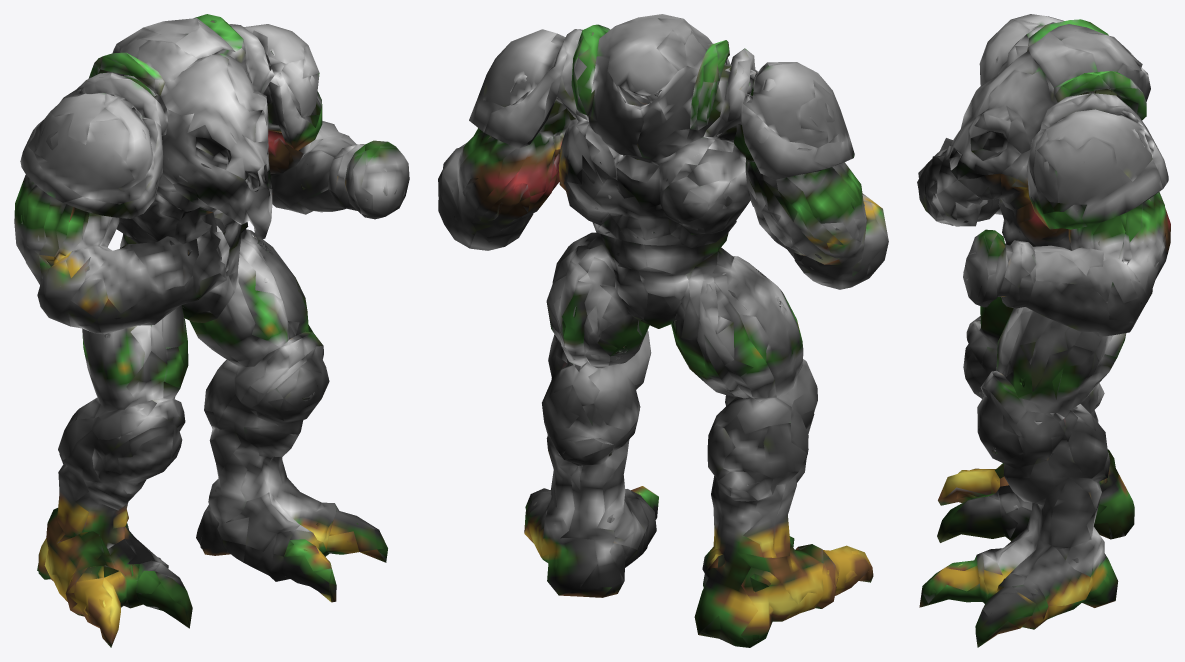
Rendered from BOSSE1.obj.
3 renders of one model, left to right at view 1: azimuth 30°, elevation 25°; view 2: azimuth 150°, elevation 25°; view 3: azimuth 270°, elevation 25°, orthographic. The views are drawn at different scales.
Bounding box in the file's own units: 0.7115 × 1 × 0.4324.
1 material, 1 textured.
